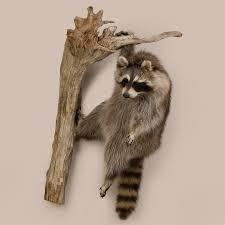raccoon: (63, 23, 184, 224)
